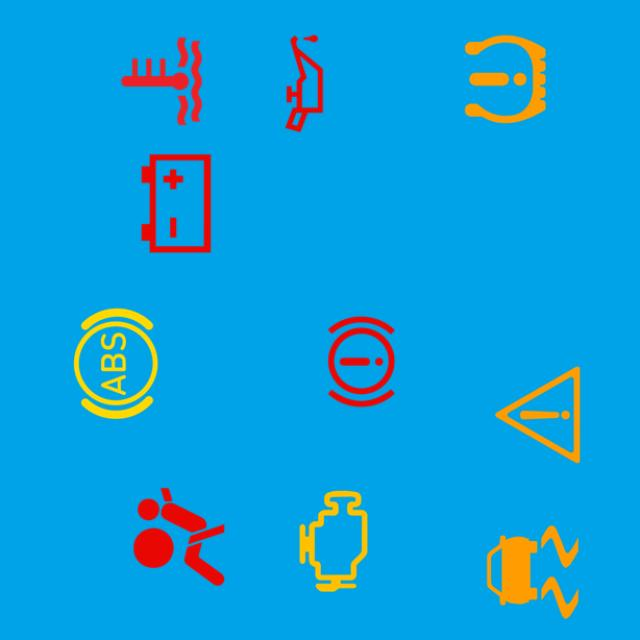Anti Lock Braking System: (55, 304, 176, 424)
Braking System Issue: (301, 301, 422, 422)
Charging System Issue: (116, 143, 237, 264)
Check Engine: (273, 481, 394, 602)
Electronic Stability Problem -ESP-: (472, 512, 593, 632)
Engine Overheating Warning Light: (101, 21, 222, 142)
Low Engine Oil Warning Light: (244, 23, 365, 144)
Low Tire Pressure Warning Light: (445, 19, 566, 140)
Master warning light: (478, 354, 598, 476)
SRS-Airbag: (119, 477, 240, 598)
